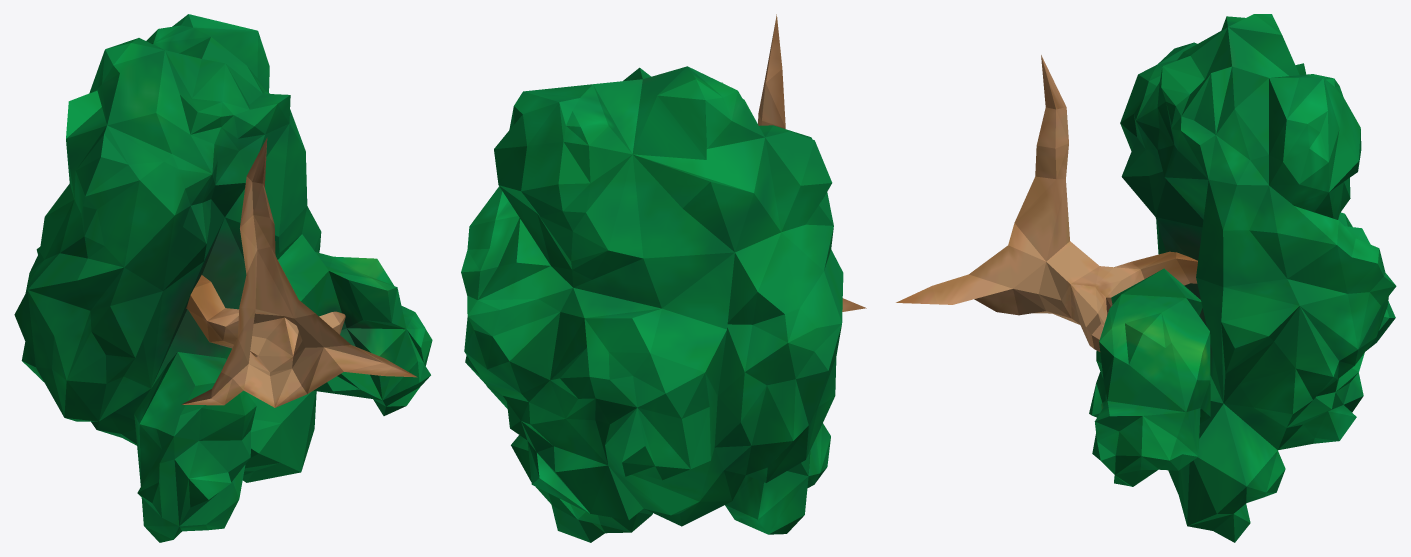
File: BR_Torterra.obj
3 views of the same model, side by side, from view 1: azimuth 30°, elevation 25°; view 2: azimuth 150°, elevation 25°; view 3: azimuth 270°, elevation 25° (orthographic). The views are drawn at different scales.
Visible parts, largest first — view 1: dodaitose; view 2: dodaitose; view 3: dodaitose.
Boxes of the visible parts, x1,y1,x2,y2 form: dodaitose: (14, 14, 432, 542); dodaitose: (461, 14, 866, 542); dodaitose: (896, 14, 1396, 542).
Bounding box in the file's own units: 12.68 × 15.22 × 14.86.
1 material, 1 textured.
